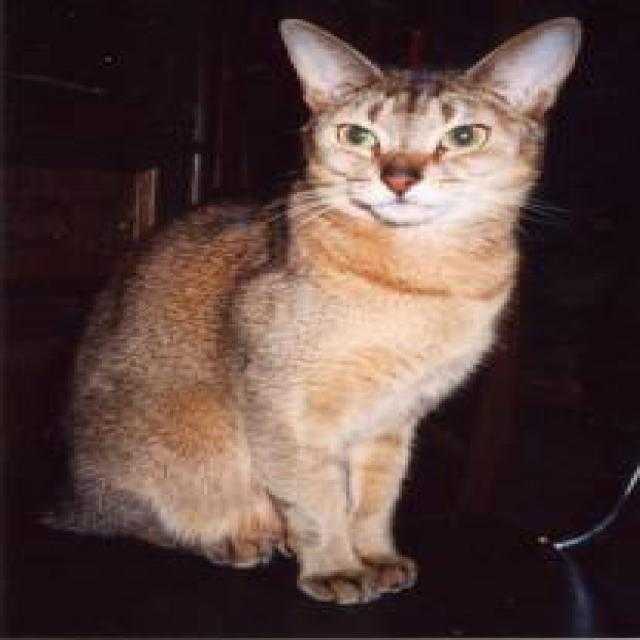Abyssinian: (279, 8, 594, 237)
